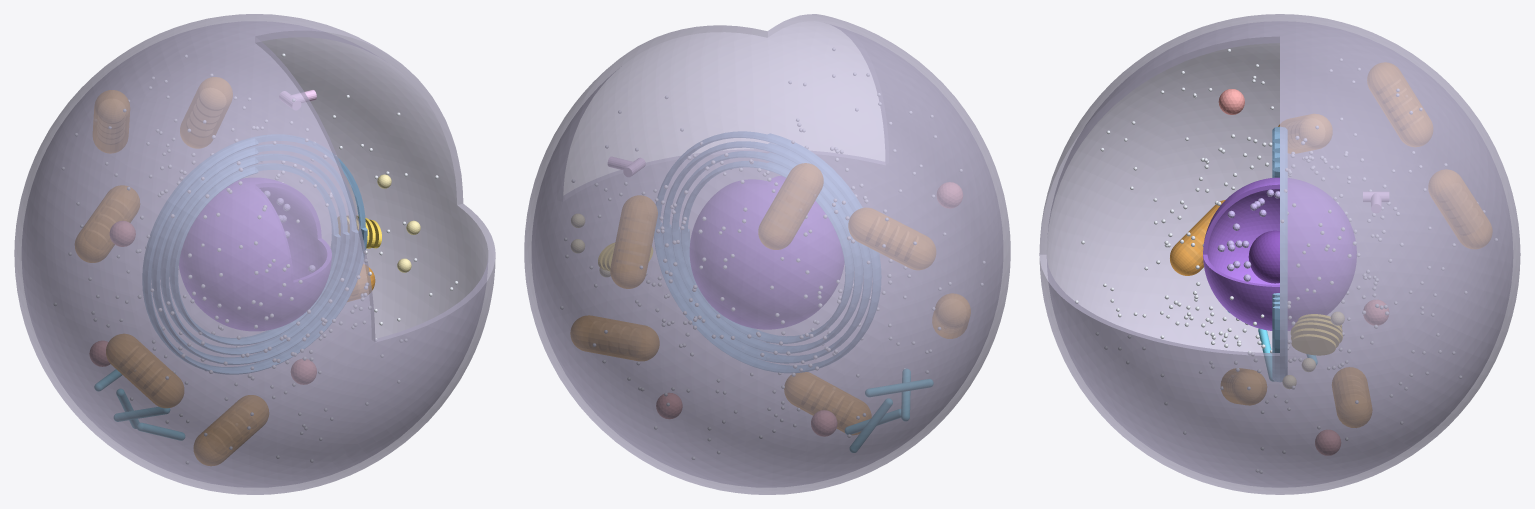
The model's file is animal-cell.glb.
3 views of the same model, side by side, from view 1: azimuth 30°, elevation 25°; view 2: azimuth 150°, elevation 25°; view 3: azimuth 270°, elevation 25° (orthographic).
Parts seen in each view (by area): view 1: cell-membrane, rough-er, nucleus, mitochondria, ribosomes, lysosomes, smooth-er, golgi, vesicles; view 2: cell-membrane, rough-er, mitochondria, nucleus, ribosomes, smooth-er, lysosomes; view 3: cell-membrane, nucleus, mitochondria, ribosomes, rough-er, golgi, lysosomes, nucleolus, chromatin.
Part boxes in pixels (x1=…): cell-membrane: x1=14, y1=14, x2=495, y2=494; rough-er: x1=142, y1=134, x2=367, y2=374; nucleus: x1=179, y1=178, x2=331, y2=330; mitochondria: x1=75, y1=77, x2=375, y2=465; ribosomes: x1=54, y1=53, x2=458, y2=463; lysosomes: x1=89, y1=221, x2=316, y2=384; smooth-er: x1=94, y1=369, x2=184, y2=440; golgi: x1=337, y1=215, x2=381, y2=248; vesicles: x1=377, y1=174, x2=420, y2=272; cell-membrane: x1=524, y1=14, x2=1010, y2=494; rough-er: x1=654, y1=131, x2=881, y2=372; mitochondria: x1=570, y1=163, x2=970, y2=434; nucleus: x1=690, y1=176, x2=843, y2=329; ribosomes: x1=560, y1=48, x2=985, y2=459; smooth-er: x1=845, y1=369, x2=933, y2=452; lysosomes: x1=656, y1=182, x2=962, y2=436; cell-membrane: x1=1039, y1=14, x2=1520, y2=494; nucleus: x1=1203, y1=177, x2=1356, y2=330; mitochondria: x1=1170, y1=62, x2=1492, y2=427; ribosomes: x1=1075, y1=49, x2=1497, y2=473; rough-er: x1=1272, y1=126, x2=1287, y2=381; golgi: x1=1291, y1=314, x2=1342, y2=355; lysosomes: x1=1218, y1=89, x2=1388, y2=455; nucleolus: x1=1248, y1=230, x2=1279, y2=283; chromatin: x1=1217, y1=189, x2=1279, y2=281.
Bounding box in the file's own units: 20 × 20 × 20.
